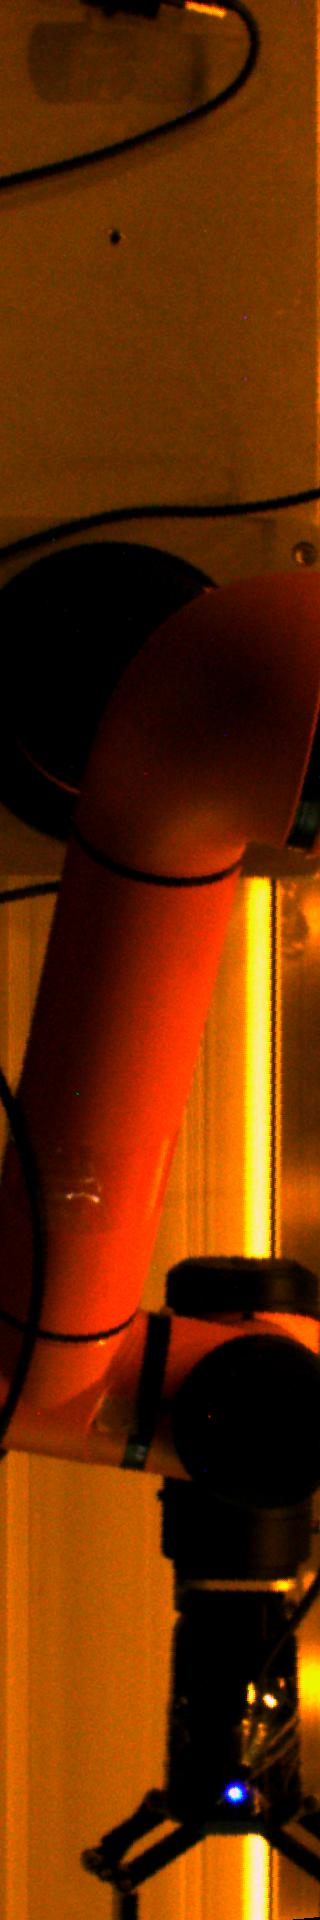keyPoint_1: (219, 1776, 250, 1806)
keyPoint_2: (99, 223, 129, 253)
